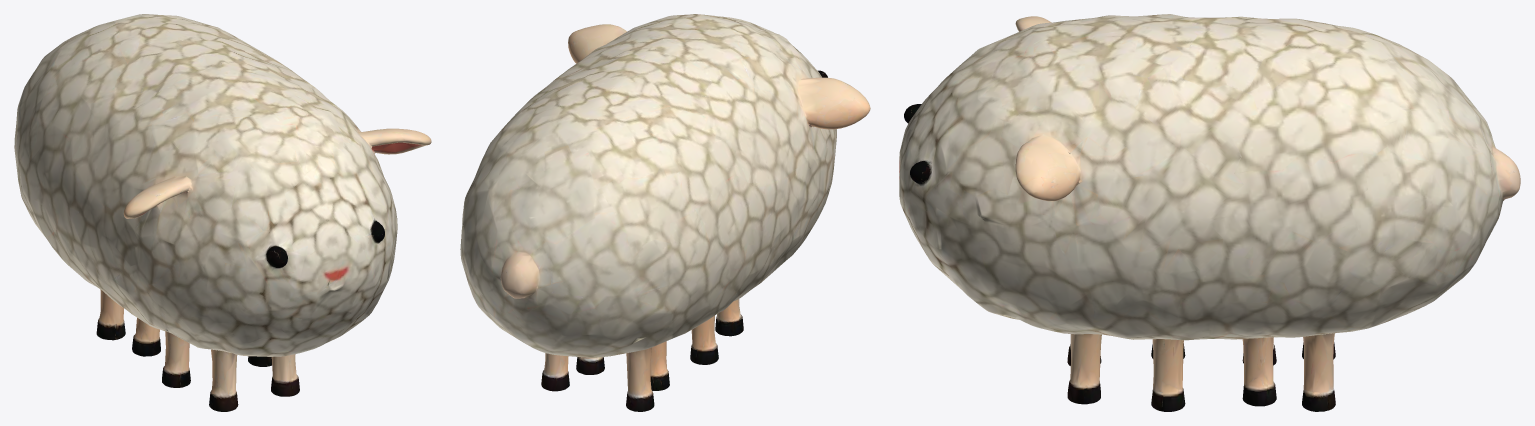
File: sheep.glb
3 renders of one model, left to right at view 1: azimuth 30°, elevation 25°; view 2: azimuth 150°, elevation 25°; view 3: azimuth 270°, elevation 25°, orthographic. The views are drawn at different scales.
Bounding box in the file's own units: 1.25 × 1.2 × 1.91.
1 material, 1 textured.
